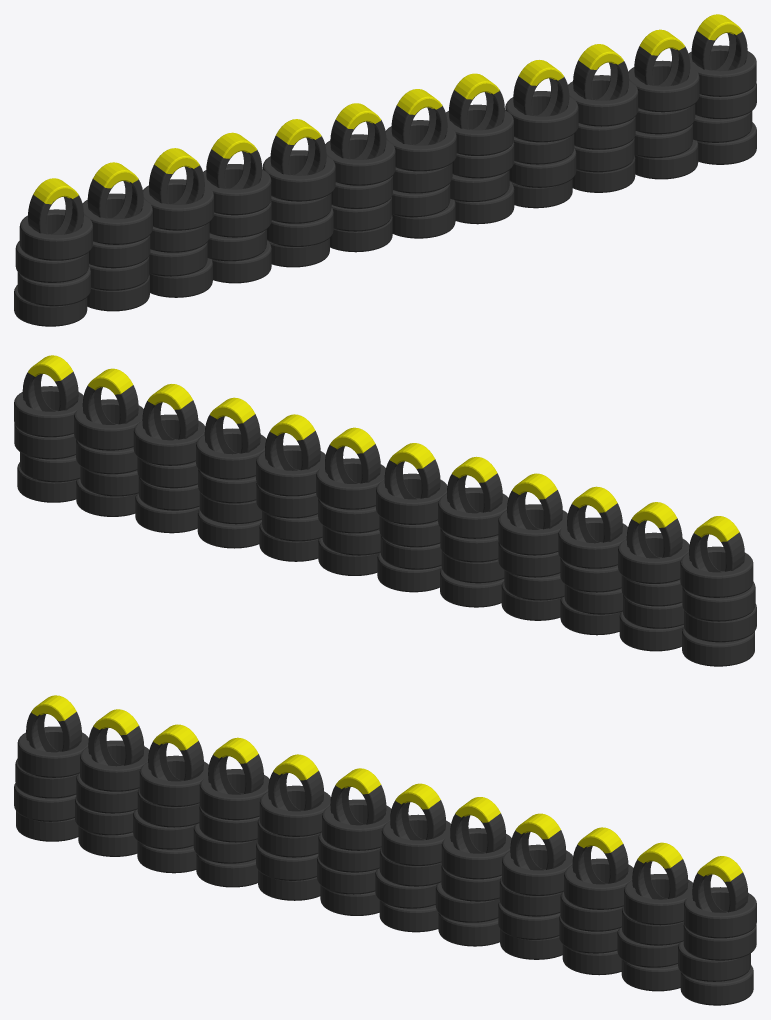
File: tire_barier_long.fbx
3 renders of one model, top to bottom at view 1: azimuth 30°, elevation 25°; view 2: azimuth 150°, elevation 25°; view 3: azimuth 330°, elevation 25°, orthographic.
Visible parts, largest first — view 1: Цилиндр.006; view 2: Цилиндр.006; view 3: Цилиндр.006.
Part boxes in pixels (left/top/right/bottom): Цилиндр.006: left=14, top=14, right=756, bottom=326; Цилиндр.006: left=14, top=355, right=756, bottom=666; Цилиндр.006: left=14, top=695, right=756, bottom=1005.
Bounding box in the file's own units: 762 × 129 × 70.95.
